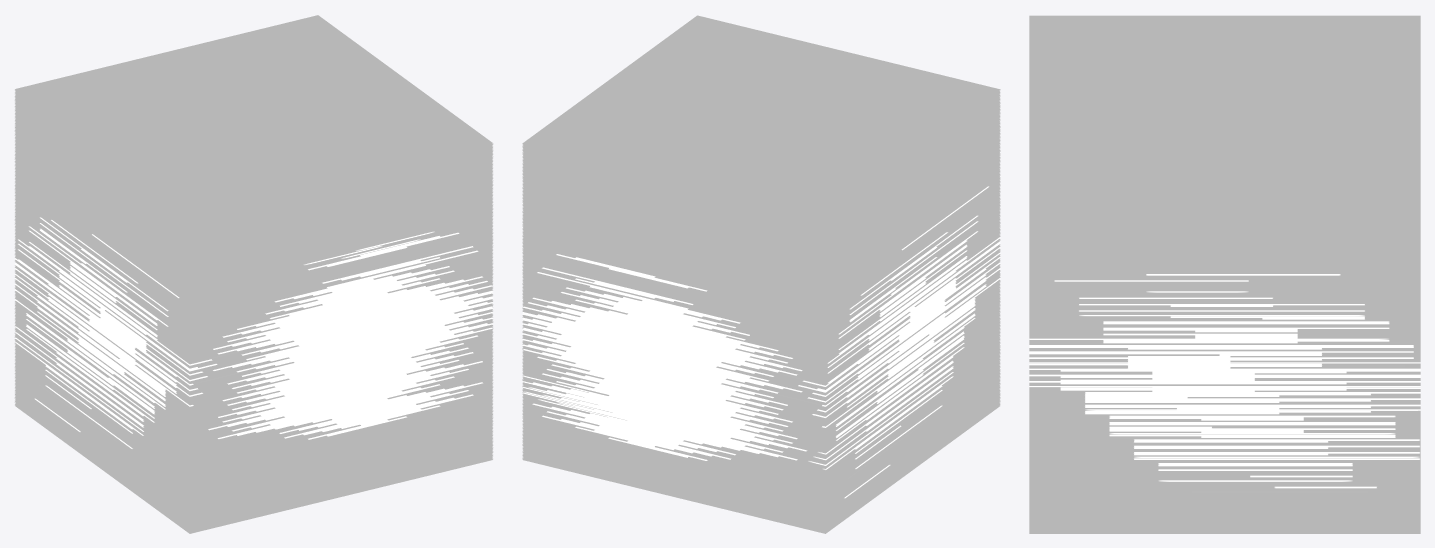
Rendered from nuage.glb.
The picture shows the model from 3 angles, left to right: view 1: azimuth 30°, elevation 25°; view 2: azimuth 150°, elevation 25°; view 3: azimuth 270°, elevation 25°; orthographic projection. The views are drawn at different scales.
Parts seen in each view (by area): view 1: Object_4; view 2: Object_4; view 3: Object_4.
Boxes of the visible parts, box(x1,y1,x2,y2) form: Object_4: box(14, 15, 493, 533); Object_4: box(522, 15, 1000, 533); Object_4: box(1029, 15, 1420, 533).
Size of the model in its own units: 1 by 1 by 1.
Materials: 3 (3 with a texture image).
